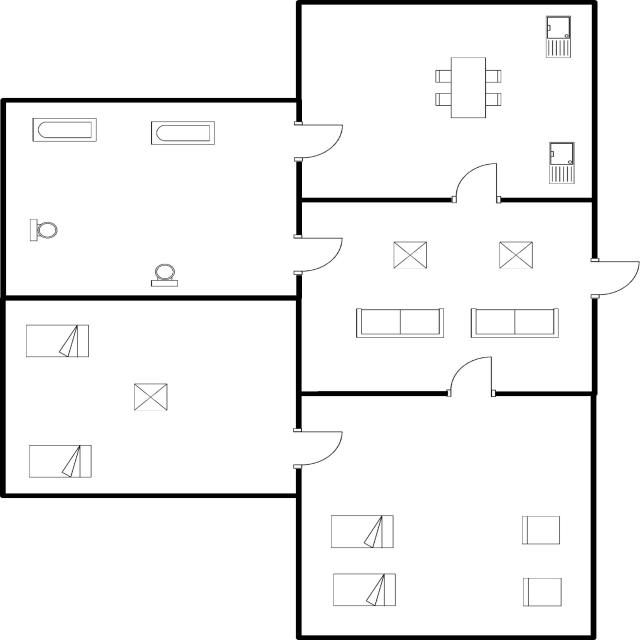bed: (325, 510, 398, 554), (20, 320, 95, 362), (327, 569, 400, 610), (22, 442, 95, 480)
coffee_table: (388, 238, 435, 272), (493, 238, 537, 272), (128, 380, 172, 413)
dining_table: (430, 52, 505, 125)
large_sink: (145, 257, 183, 290), (24, 214, 62, 244)
large_sofa: (461, 304, 563, 343), (349, 305, 450, 343)
sink: (538, 11, 575, 65)
small_sofa: (514, 511, 566, 548), (516, 574, 567, 610)
tub: (26, 113, 100, 147), (145, 116, 220, 148)
